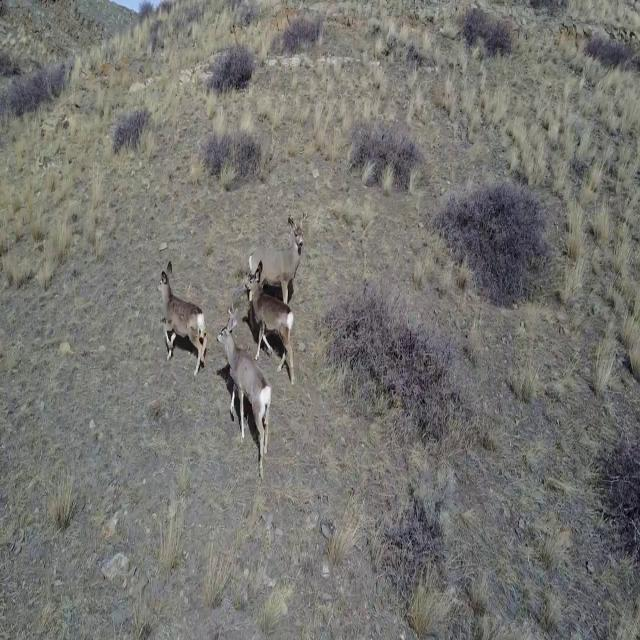Deer: (214, 304, 274, 485), (246, 263, 306, 382), (156, 258, 209, 378), (250, 211, 310, 304)
